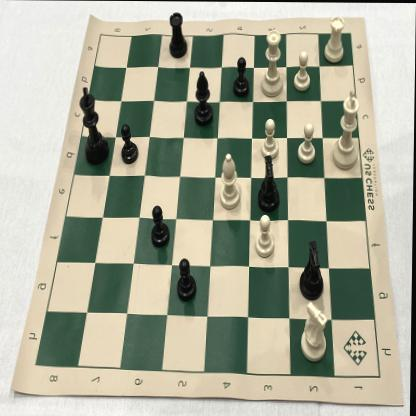black-bishop: (189, 65, 218, 130)
black-king: (77, 79, 113, 170)
black-knight: (297, 234, 329, 302), (254, 152, 285, 217)
black-pawn: (174, 251, 199, 304), (148, 201, 173, 253), (229, 52, 254, 102), (119, 119, 142, 168)
black-rook: (167, 9, 191, 64)
white-bishop: (219, 146, 245, 212)
white-king: (329, 86, 365, 172)
white-knight: (300, 297, 333, 362)
white-pawn: (253, 210, 282, 262), (294, 117, 319, 168), (290, 48, 314, 94), (259, 114, 281, 162)
white-queen: (258, 25, 286, 100)
white-rook: (321, 12, 349, 66)
